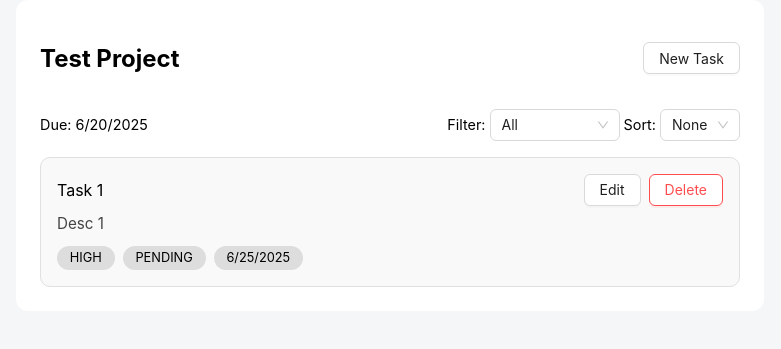
Scenario: TaskCard - Integration › can cancel edit mode
The image size is (781, 349).
Click the button "Edit". click: [612, 190]
box: x1=584 y1=174 x2=641 y2=206
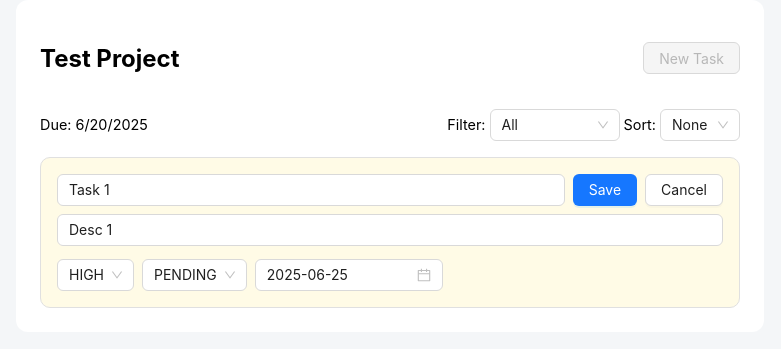
Click the button "Cancel". click: [684, 190]
box: x1=645 y1=174 x2=723 y2=206
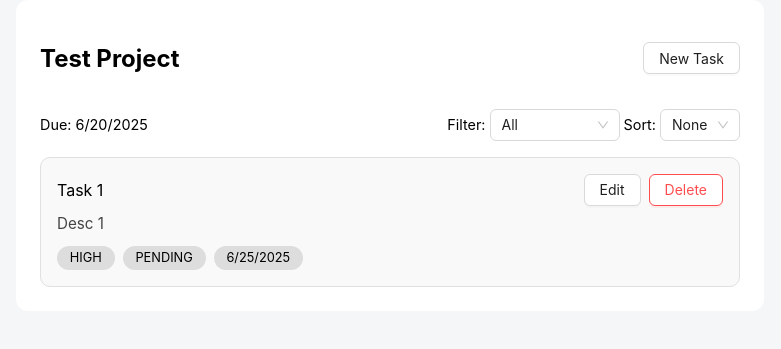
Result: the field with placeholder "Title" is gone
